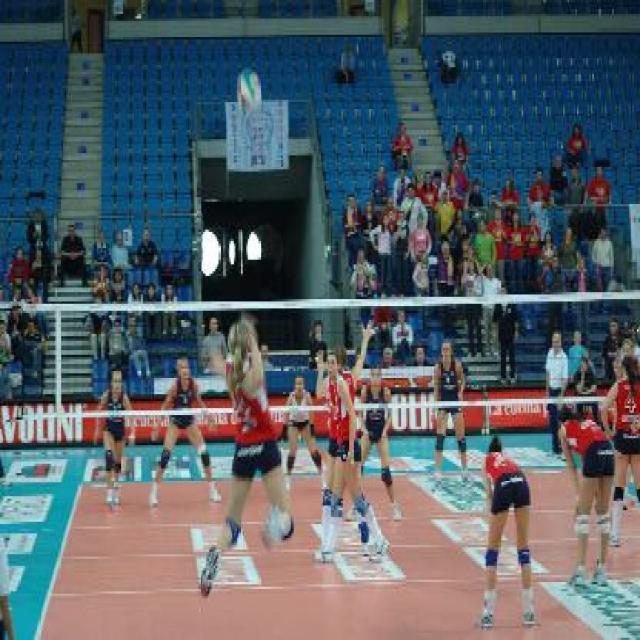volleyball: (236, 68, 262, 112)
